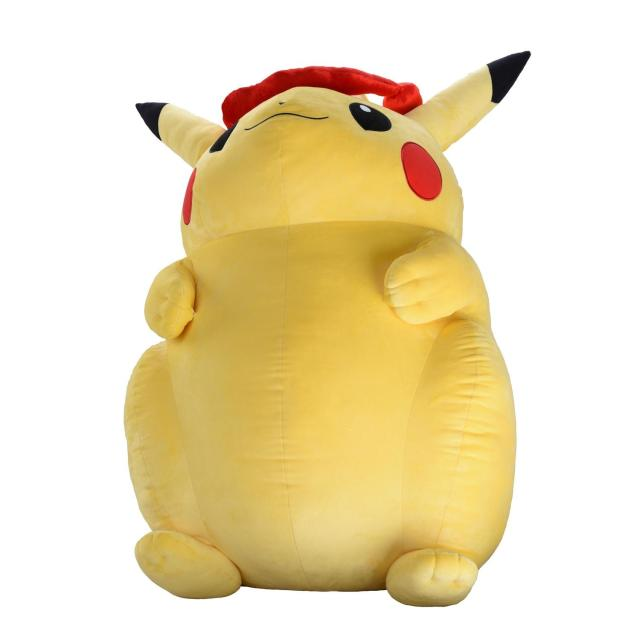pikachu: (134, 51, 534, 600)
